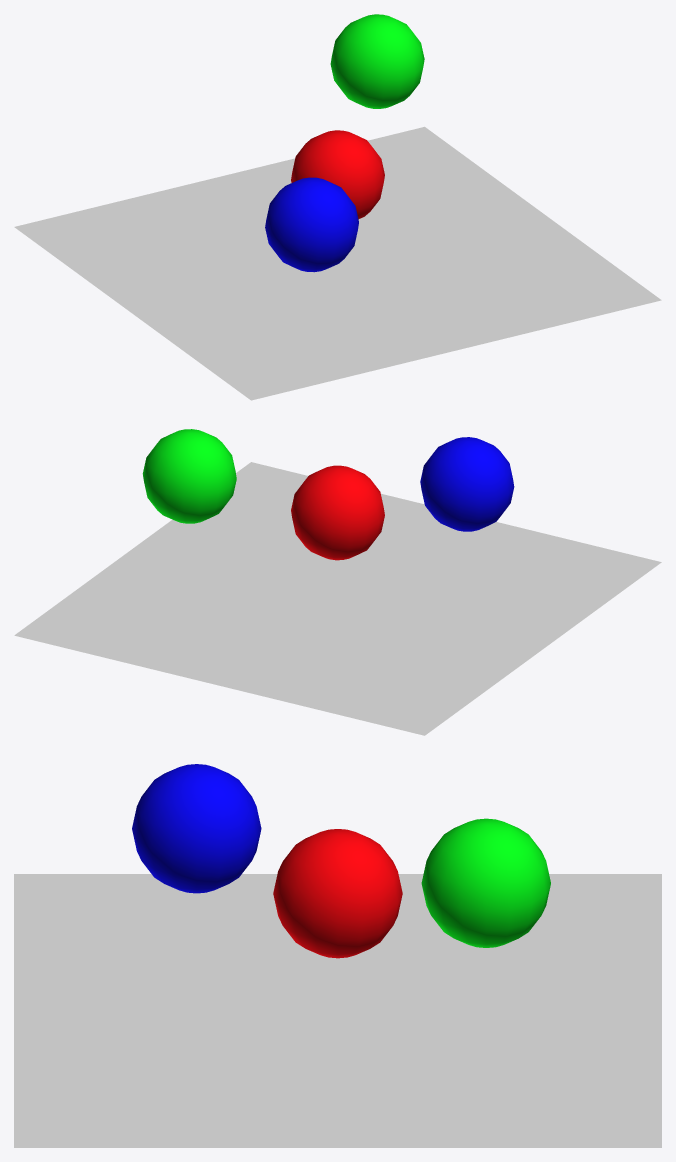
File: reflections.glb
3 views of the same model, one above another, from view 1: azimuth 30°, elevation 25°; view 2: azimuth 150°, elevation 25°; view 3: azimuth 270°, elevation 25° (orthographic). The views are drawn at different scales.
Parts seen in each view (by area): view 1: Plane, Sphere.001, Sphere.002, Sphere; view 2: Plane, Sphere, Sphere.001, Sphere.002; view 3: Plane, Sphere.002, Sphere, Sphere.001.
Boxes of the visible parts, bbox=[...] form: Plane: bbox=[14, 126, 661, 400]; Sphere.001: bbox=[330, 14, 424, 108]; Sphere.002: bbox=[265, 177, 358, 272]; Sphere: bbox=[291, 130, 384, 219]; Plane: bbox=[14, 462, 661, 735]; Sphere: bbox=[291, 465, 384, 560]; Sphere.001: bbox=[142, 429, 236, 523]; Sphere.002: bbox=[420, 437, 514, 531]; Plane: bbox=[14, 874, 661, 1147]; Sphere.002: bbox=[132, 764, 261, 893]; Sphere: bbox=[273, 829, 402, 958]; Sphere.001: bbox=[421, 818, 550, 947].
Bounding box in the file's own units: 10 × 4.24 × 10.
